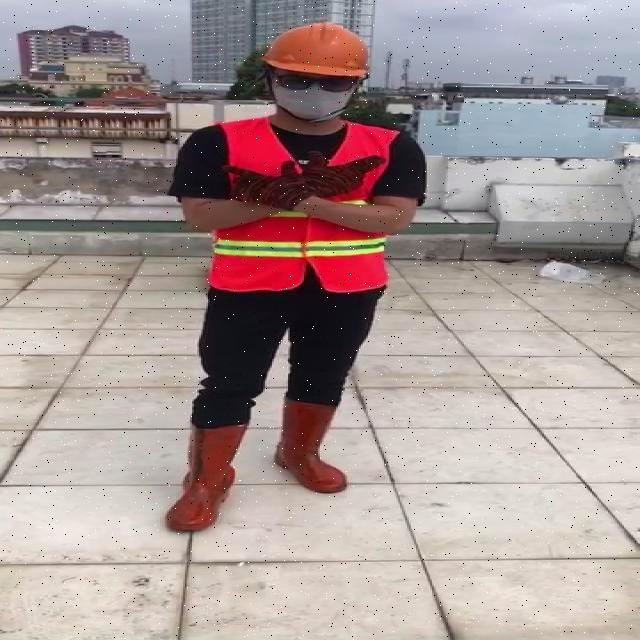Hard_hat: (258, 17, 377, 85)
Person: (163, 19, 440, 556)
Vest: (208, 117, 394, 302)
